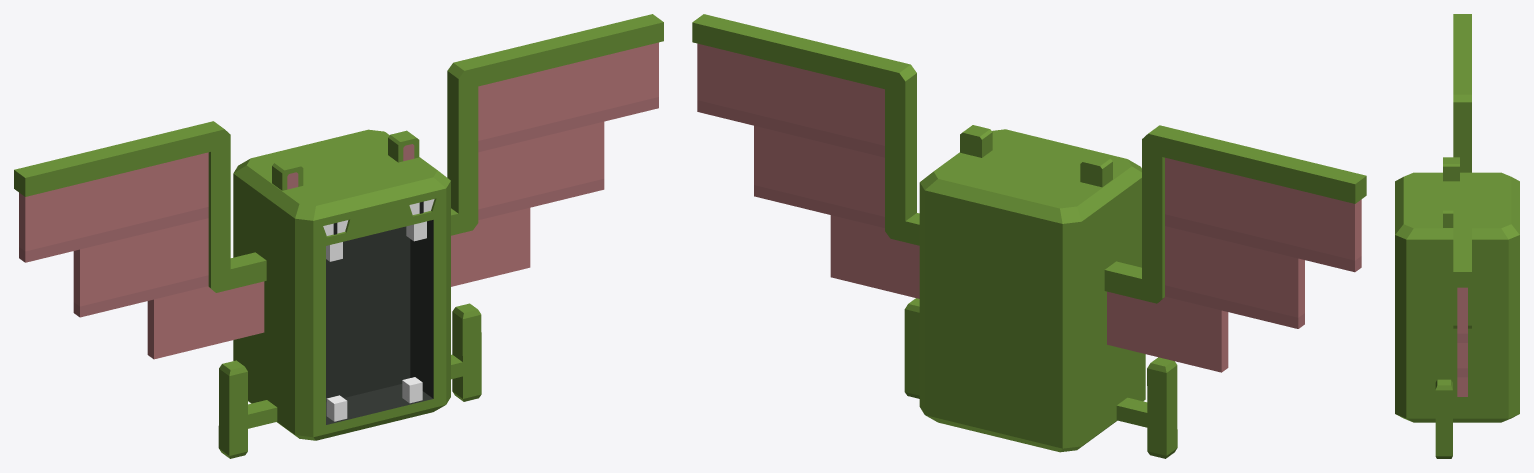
Rendered from model_shiny.obj.
The picture shows the model from 3 angles, left to right: view 1: azimuth 30°, elevation 25°; view 2: azimuth 150°, elevation 25°; view 3: azimuth 270°, elevation 25°; orthographic projection. The views are drawn at different scales.
Parts seen in each view (by area): view 1: 0042_golbat_shiny; view 2: 0042_golbat_shiny; view 3: 0042_golbat_shiny.
Part boxes in pixels (bbox=[...]): 0042_golbat_shiny: bbox=[14, 14, 663, 458]; 0042_golbat_shiny: bbox=[692, 14, 1366, 458]; 0042_golbat_shiny: bbox=[1395, 14, 1519, 458].
Bounding box in the file's own units: 4.46 × 2.14 × 0.9111.
Materials: 1 (1 with a texture image).
